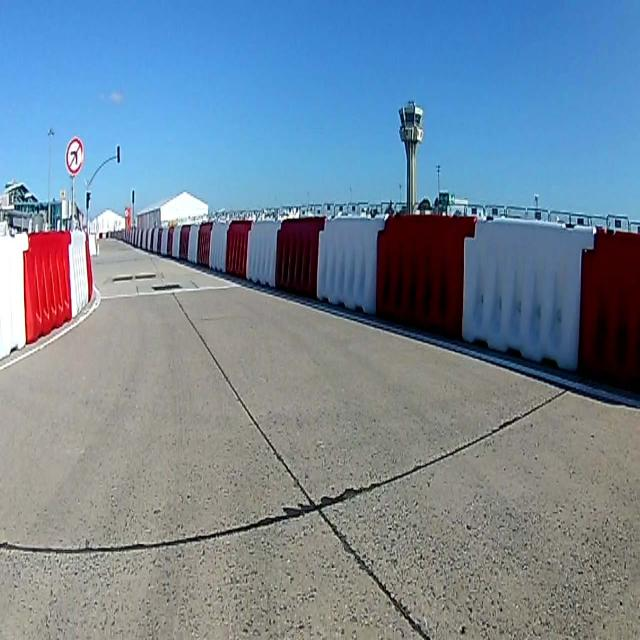soladonulmez: (65, 134, 85, 176)
